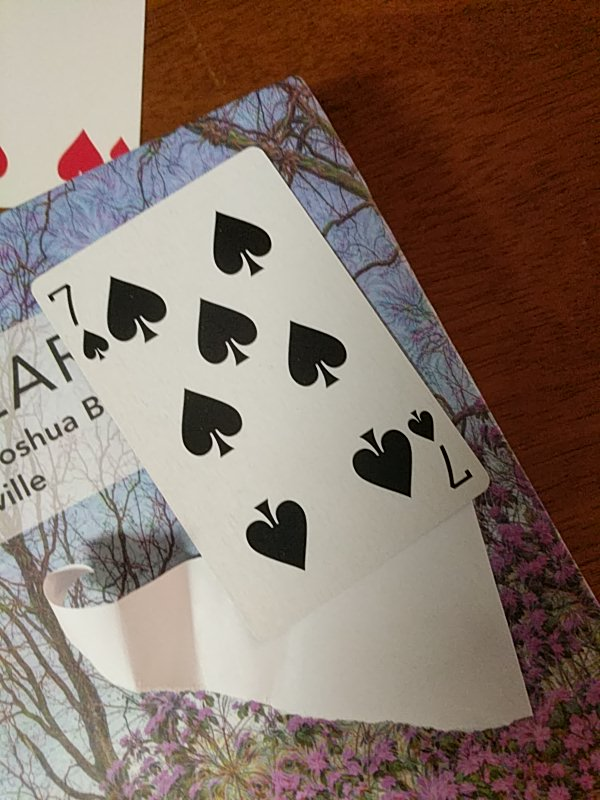Spades: (30, 140, 497, 636)
